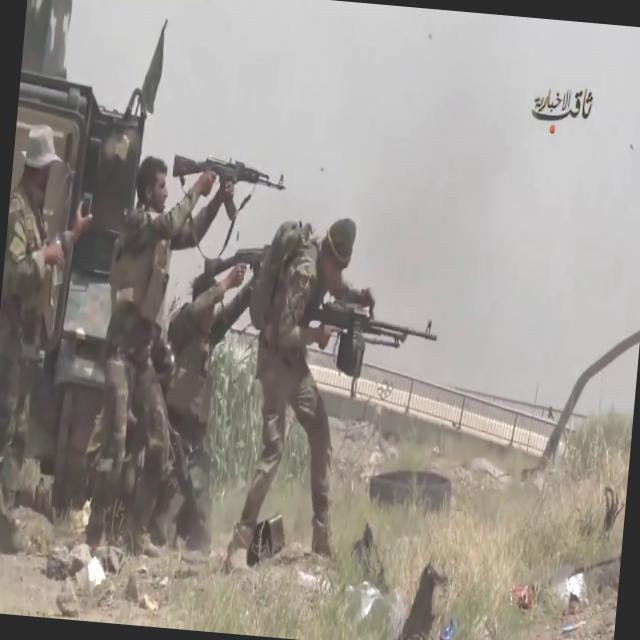long weapon: (286, 265, 455, 384), (168, 138, 303, 218), (202, 229, 282, 297)
